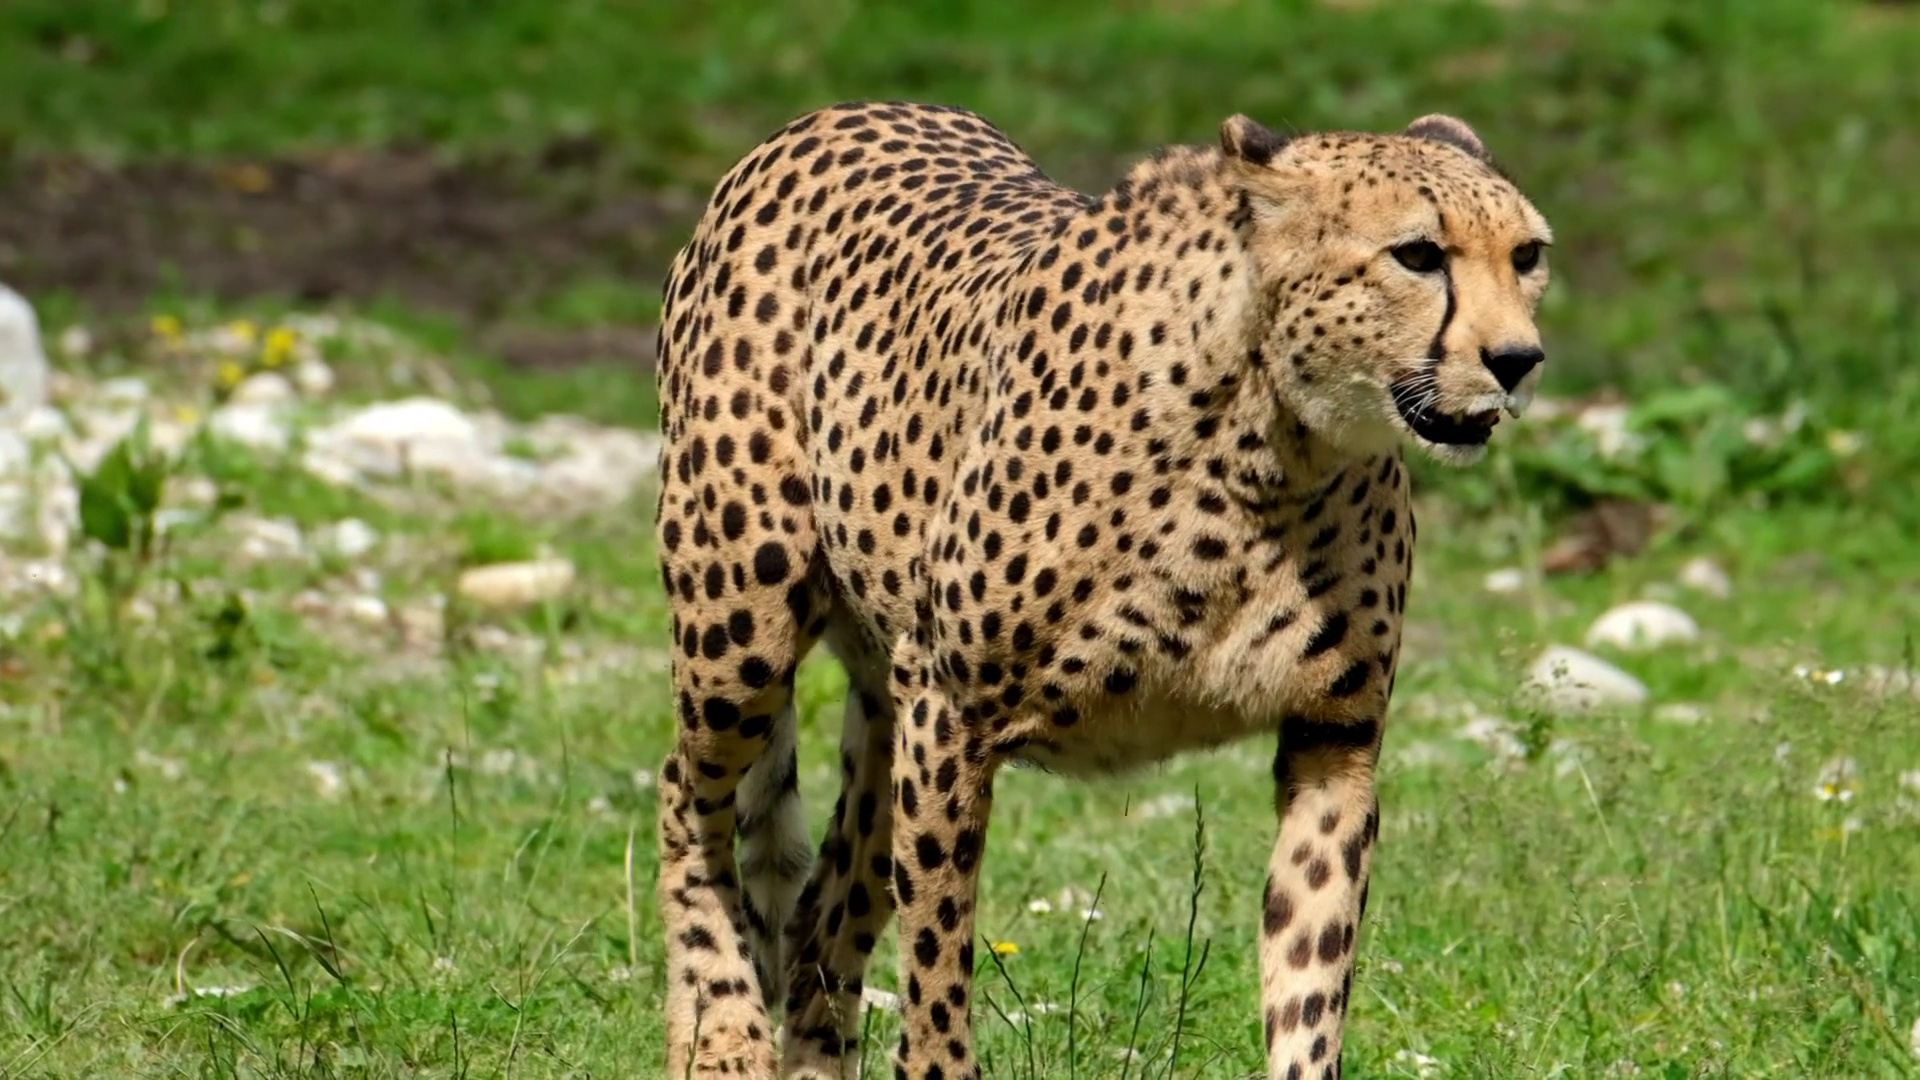Cheetah: (647, 83, 1563, 1080)
